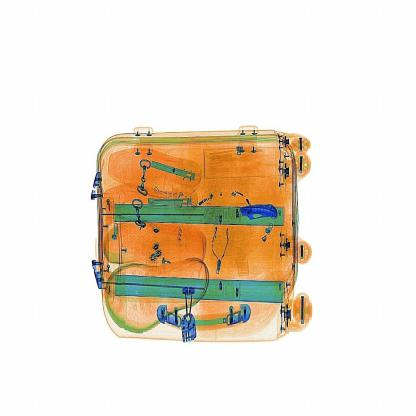knife: (234, 197, 290, 224)
